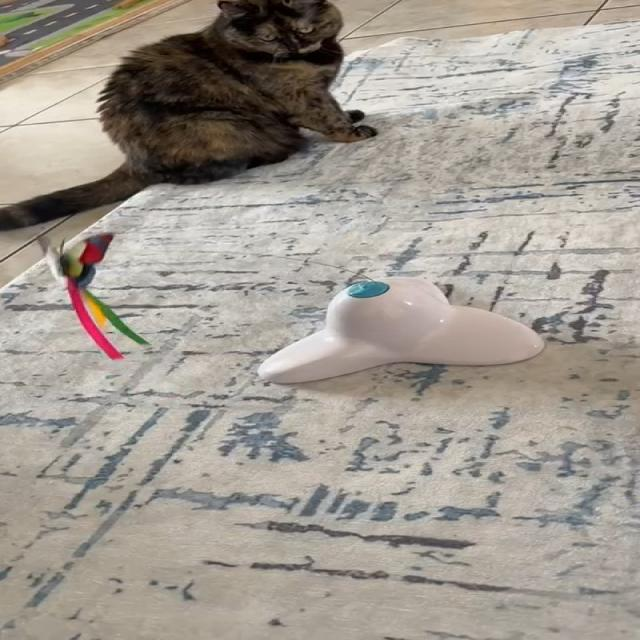authorized: (0, 0, 377, 231)
